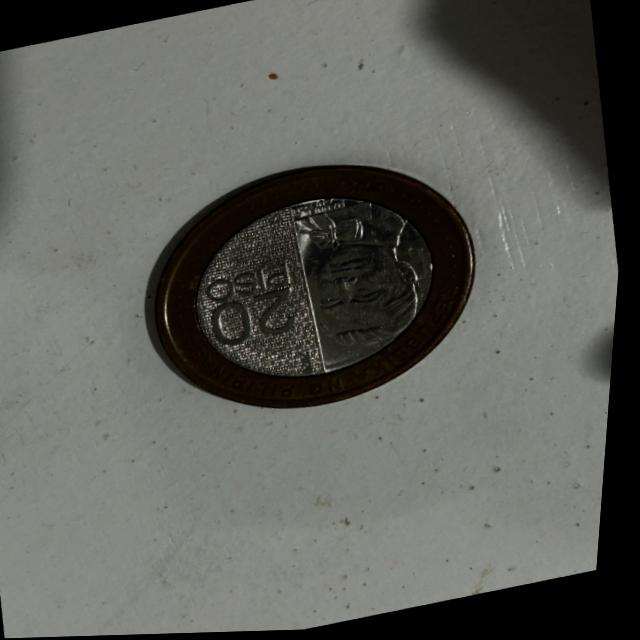20_New_Front: (193, 247, 321, 360)
